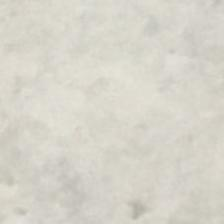Non_Crack: (27, 25, 224, 224)
